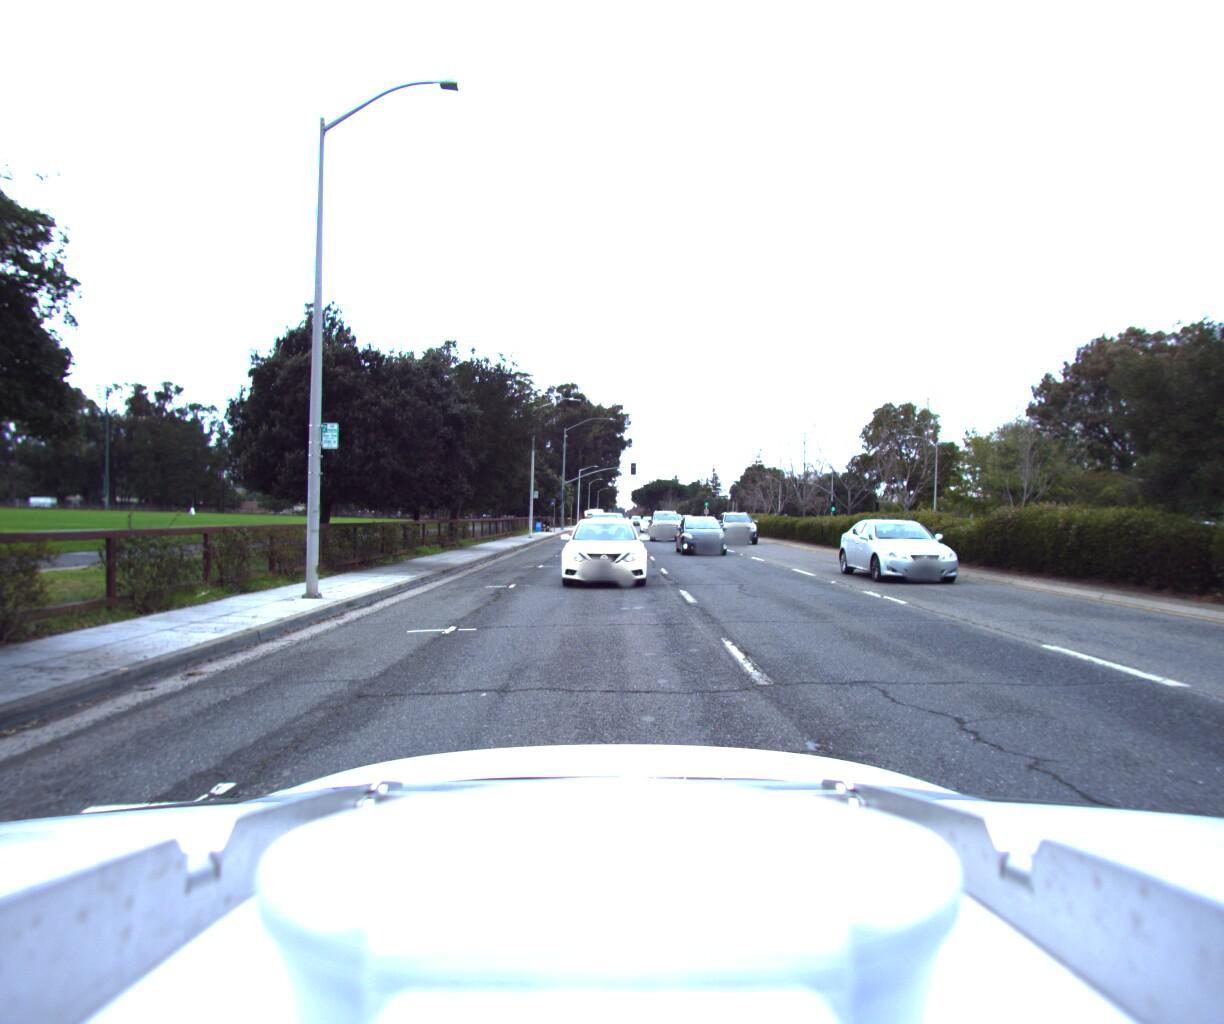car: (849, 516, 991, 598), (553, 524, 654, 605), (674, 522, 734, 568), (720, 521, 764, 559), (645, 523, 688, 554), (634, 526, 657, 544)
